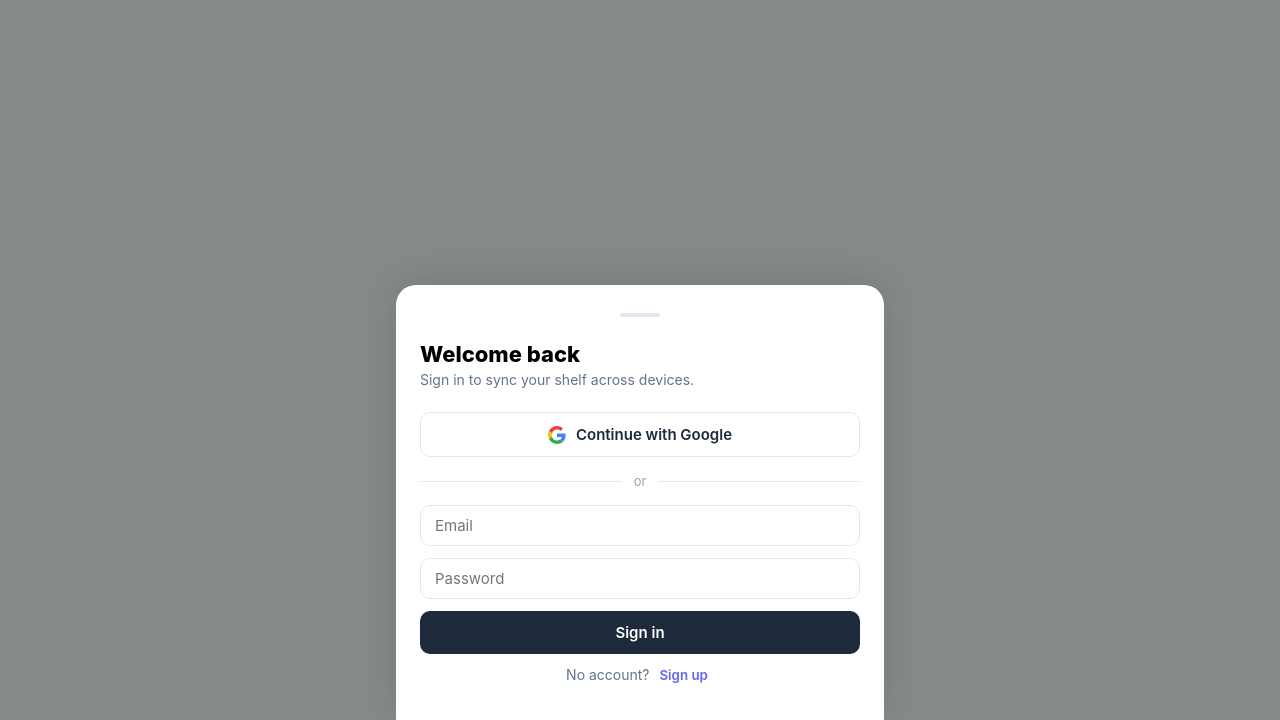
Test case: LoginModal — sign-up mode › shows confirmation screen after successful signup
The width and height of the screenshot is (1280, 720).
Click the button "Sign up" at (684, 675), box top-left (653, 666), bottom-right (714, 684)
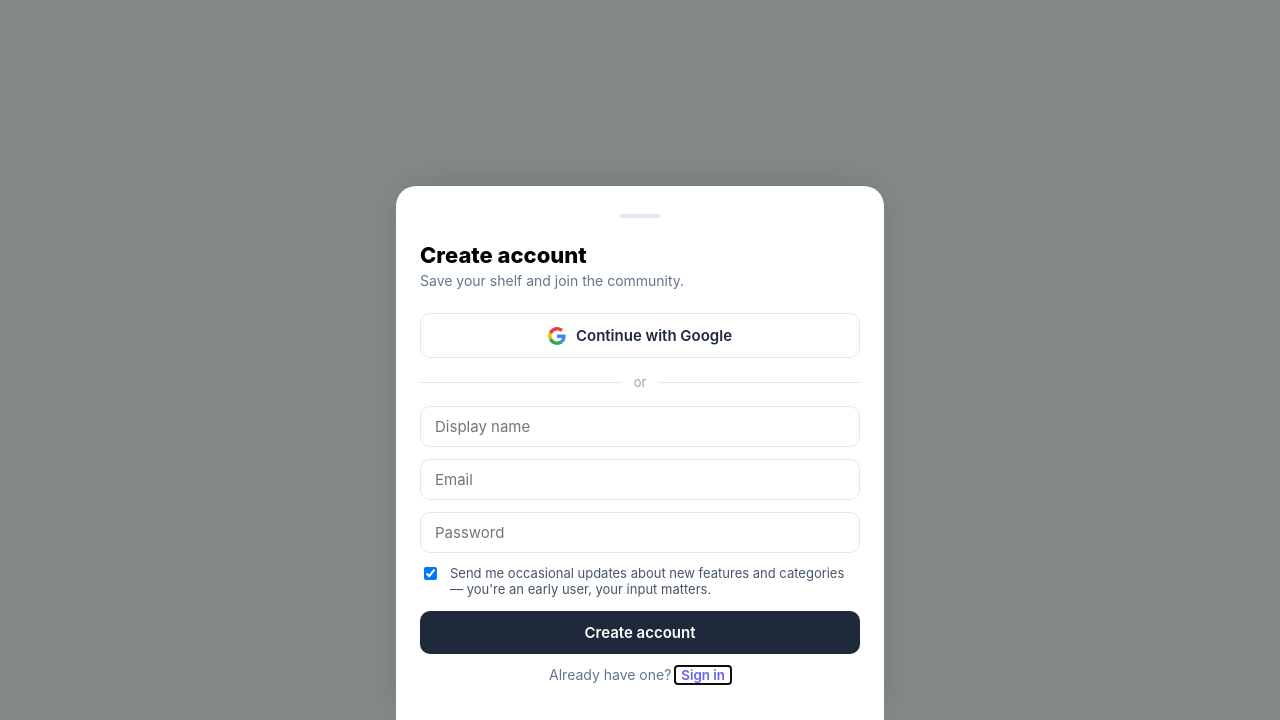
Type "Diego" into the field with placeholder "Display name" at (640, 426), box top-left (420, 406), bottom-right (860, 447)
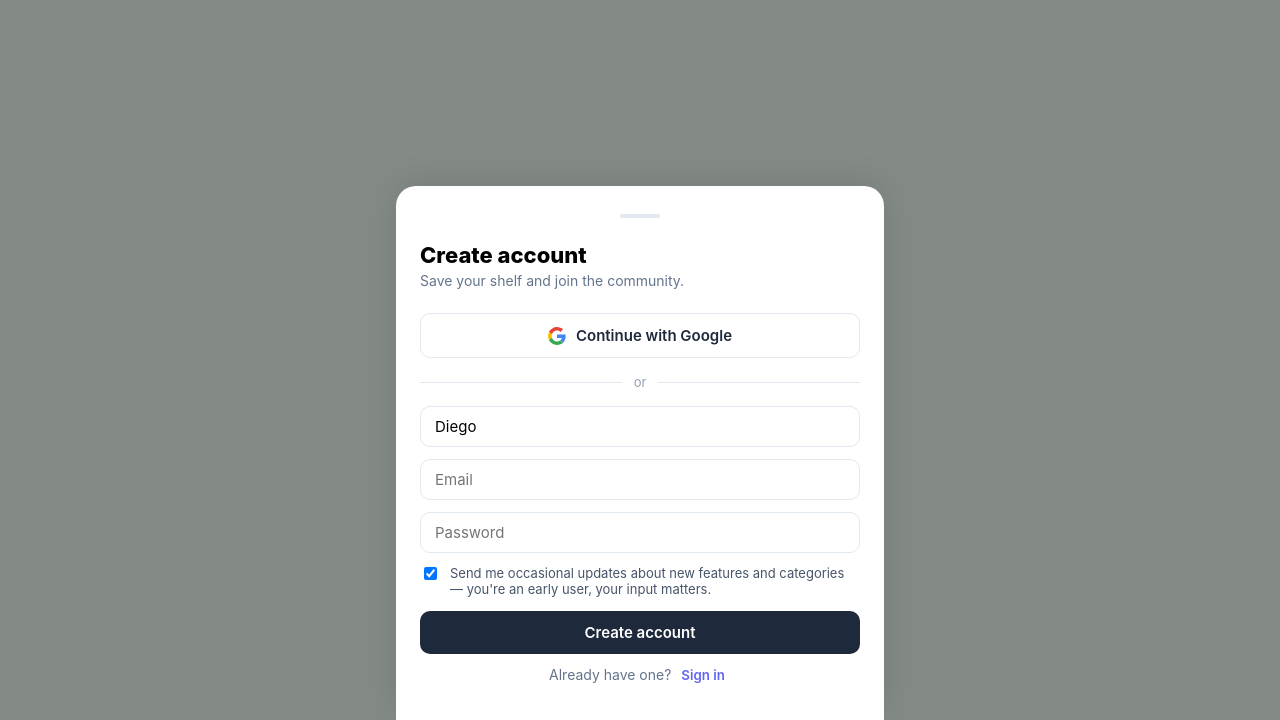
Type "diego@x.com" into the field with placeholder "Email" at (640, 480), box top-left (420, 459), bottom-right (860, 500)
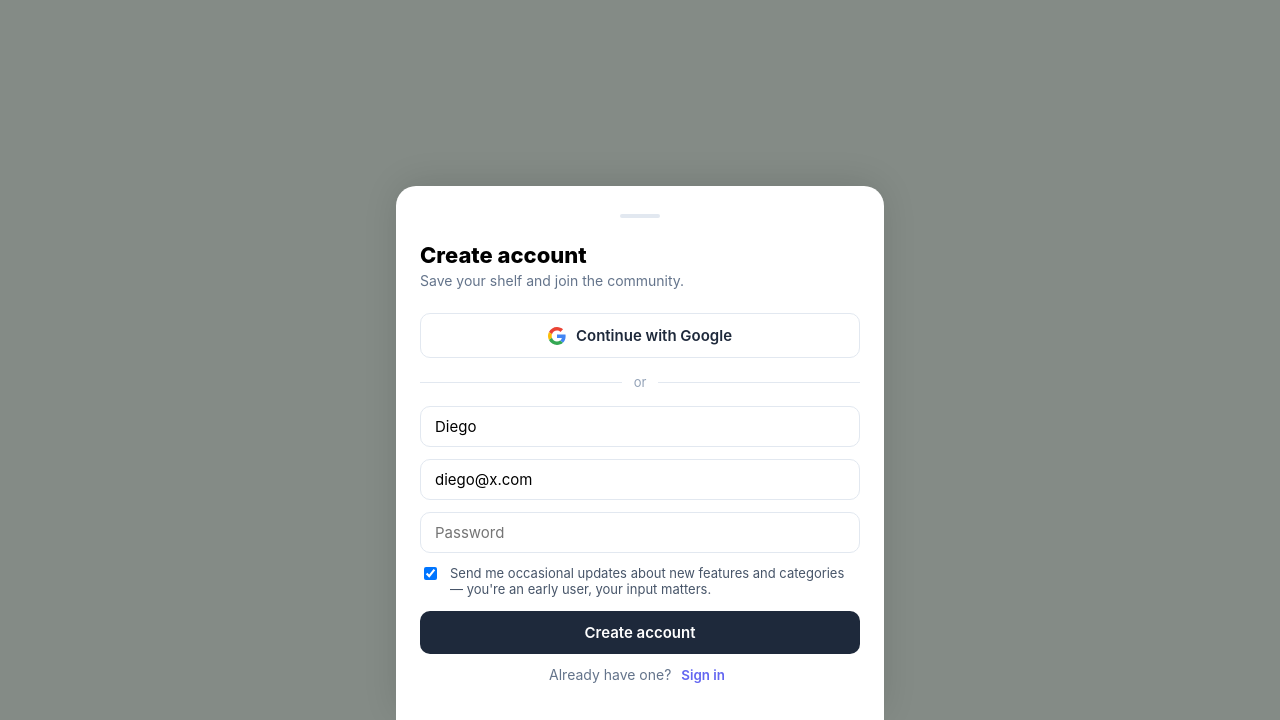
Type "abc12345" into the password field with placeholder "Password" at (640, 532), box top-left (420, 512), bottom-right (860, 553)
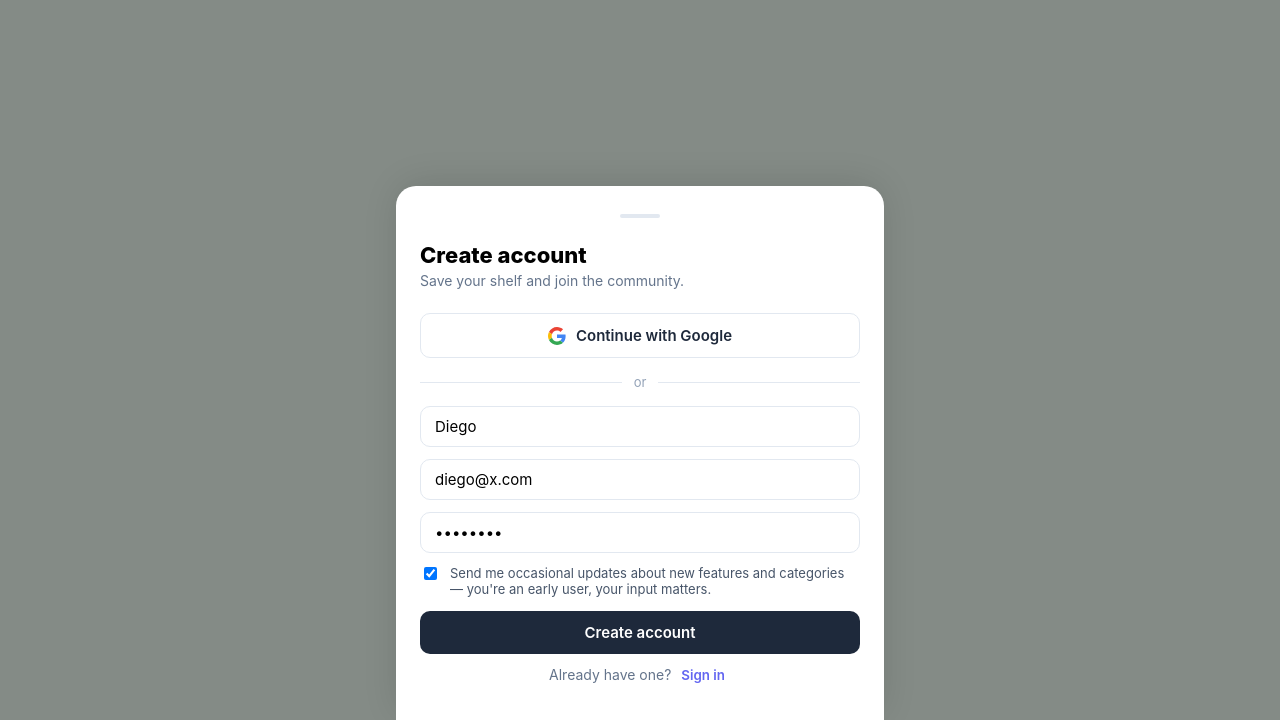
Click the button "Create account" at (640, 632), box top-left (420, 611), bottom-right (860, 654)
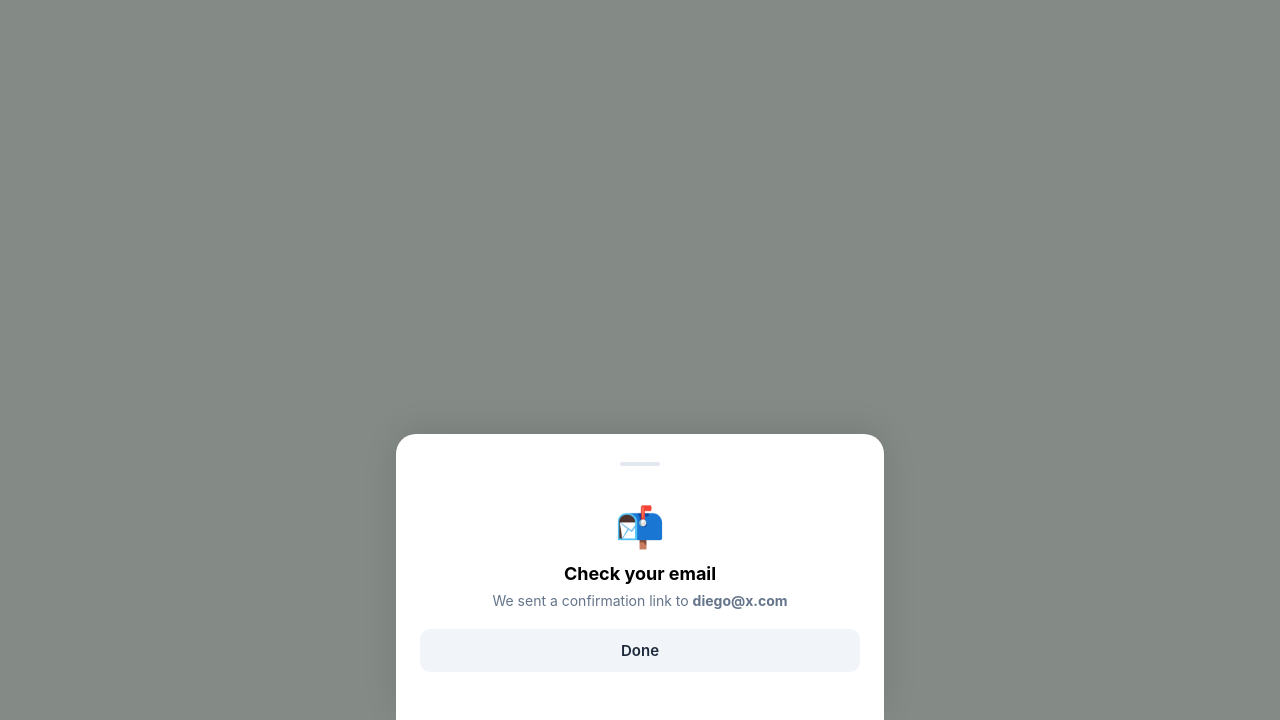
Check: the text "Check your email" is shown, box top-left (564, 563), bottom-right (716, 584)
Check: the text "diego@x.com" is shown, box top-left (693, 592), bottom-right (788, 609)
